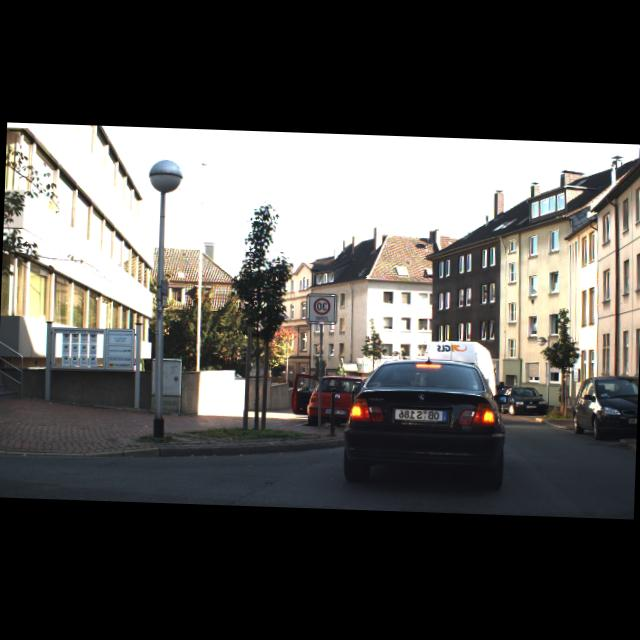prohibitory: (312, 296, 330, 314)
